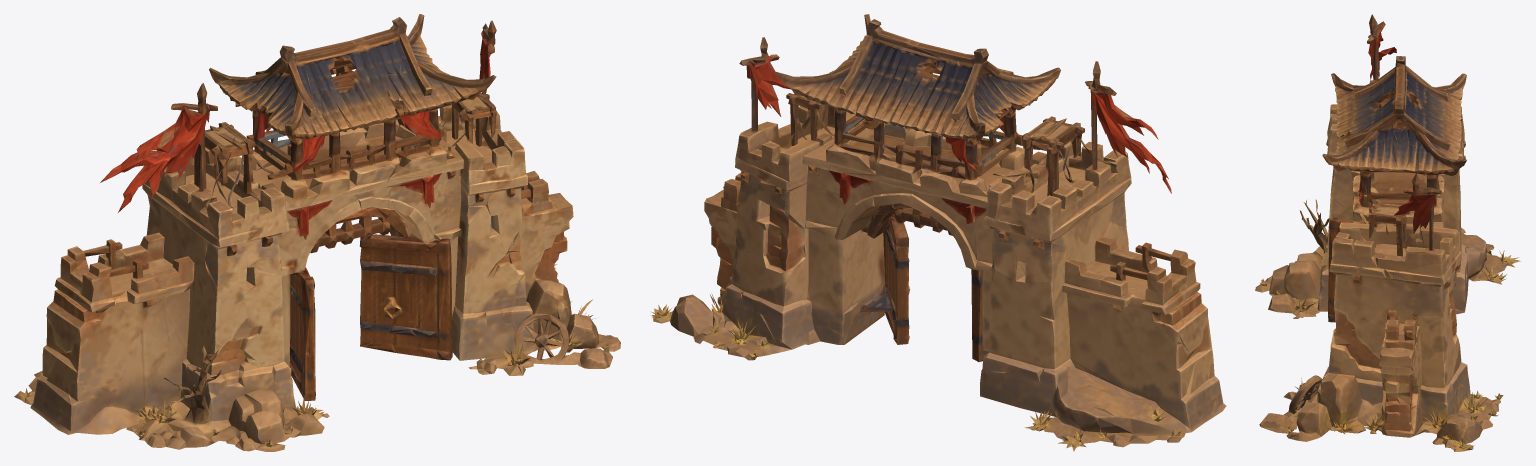
File: gate_desert.glb
3 renders of one model, left to right at view 1: azimuth 30°, elevation 25°; view 2: azimuth 150°, elevation 25°; view 3: azimuth 270°, elevation 25°, orthographic. The views are drawn at different scales.
Visible parts, largest first — view 1: output_unwrapped; view 2: output_unwrapped; view 3: output_unwrapped.
Part boxes in pixels (<box>): output_unwrapped: <box>14,14,620,451</box>; output_unwrapped: <box>651,14,1226,451</box>; output_unwrapped: <box>1255,14,1520,451</box>.
Bounding box in the file's own units: 1.9 × 1.08 × 0.954.
Materials: 1 (1 with a texture image).
